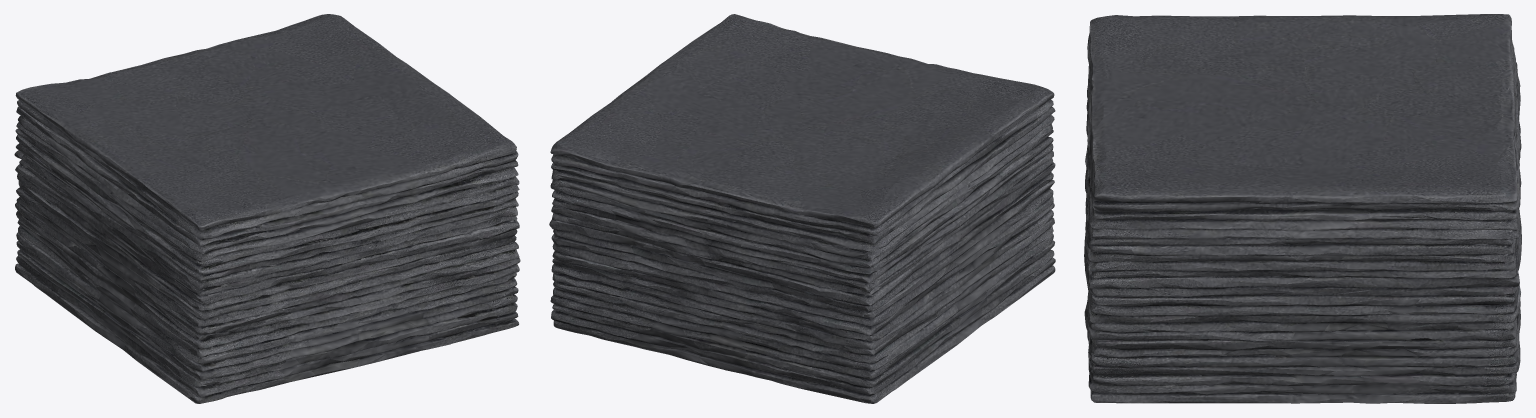
File: w3hgreymats.glb
3 views of the same model, side by side, from view 1: azimuth 30°, elevation 25°; view 2: azimuth 150°, elevation 25°; view 3: azimuth 270°, elevation 25° (orthographic). The views are drawn at different scales.
Visible parts, largest first — view 1: output_unwrapped; view 2: output_unwrapped; view 3: output_unwrapped.
Part boxes in pixels (<box>): output_unwrapped: <box>14,14,520,403</box>; output_unwrapped: <box>549,14,1055,403</box>; output_unwrapped: <box>1084,14,1521,403</box>.
Size of the model in its own units: 0.9 by 0.4812 by 0.9016.
1 material, 1 textured.
